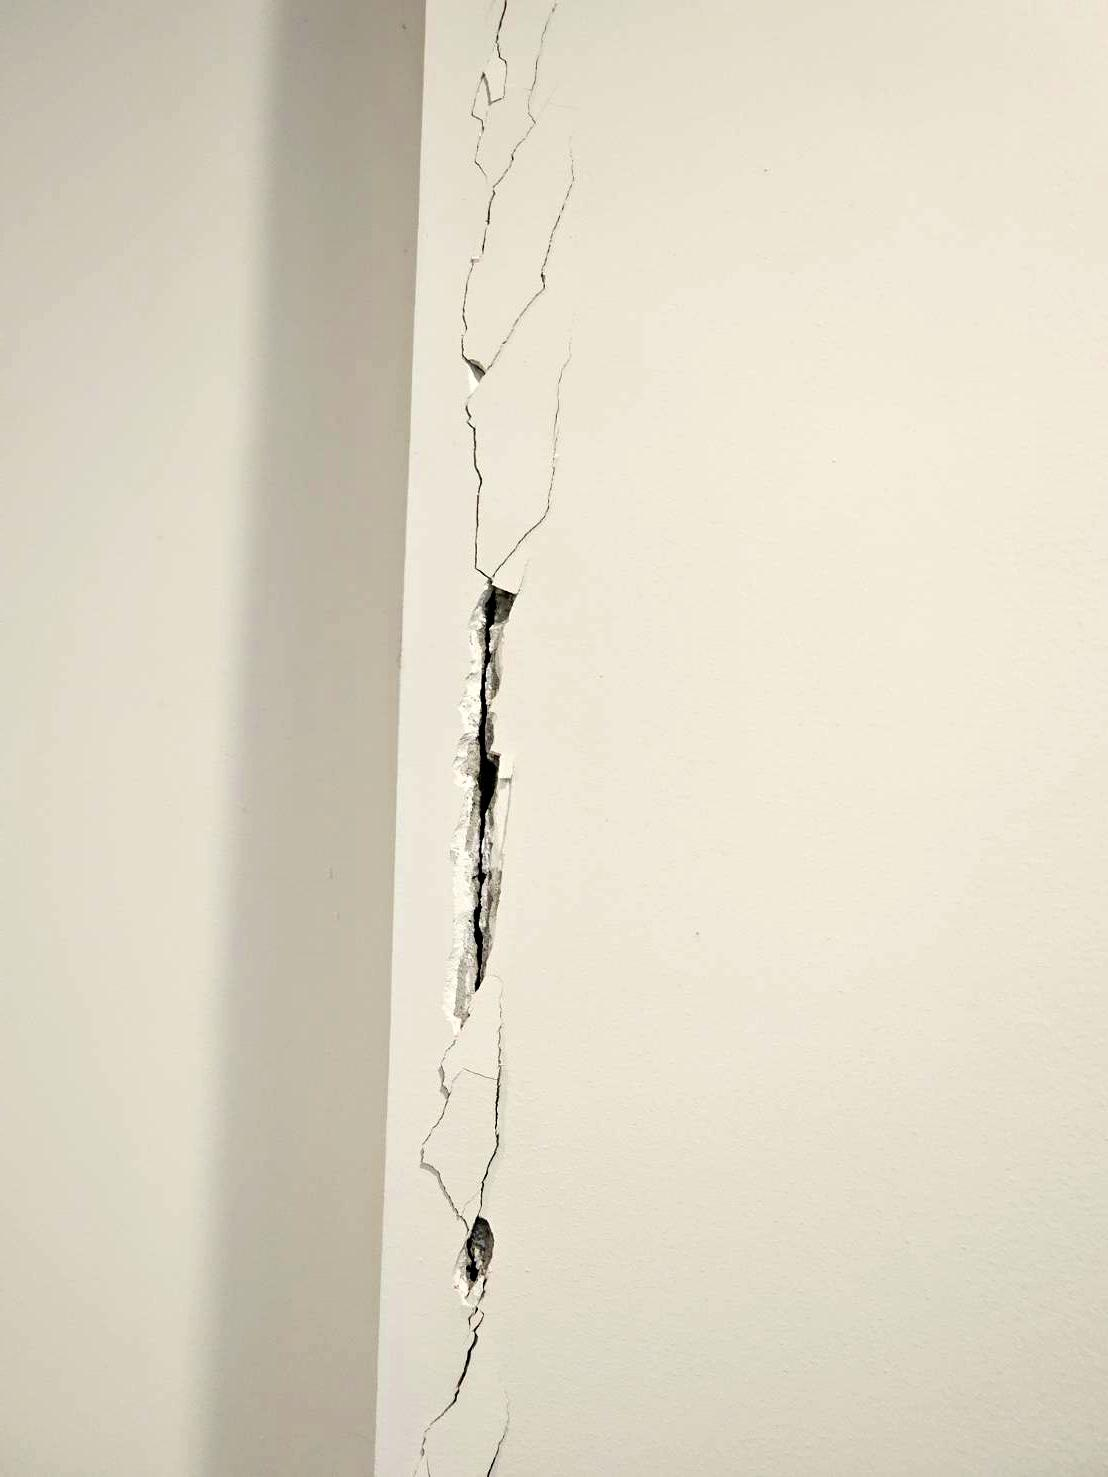High: (392, 1, 578, 1477)
